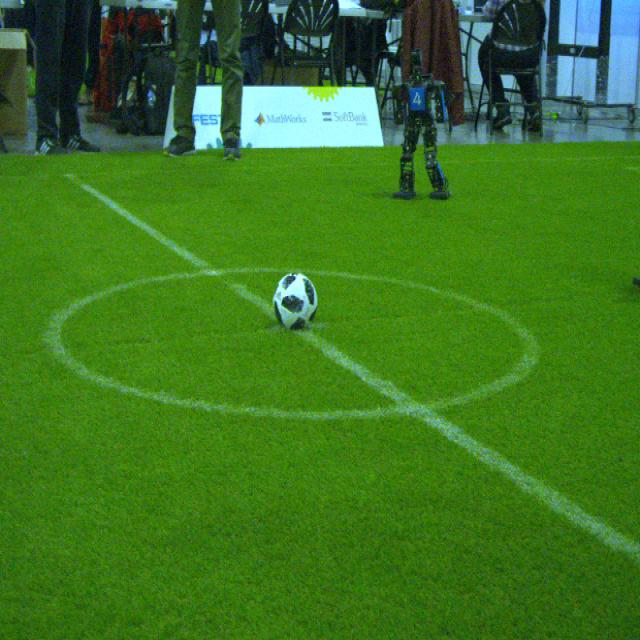ball: (272, 272, 319, 333)
